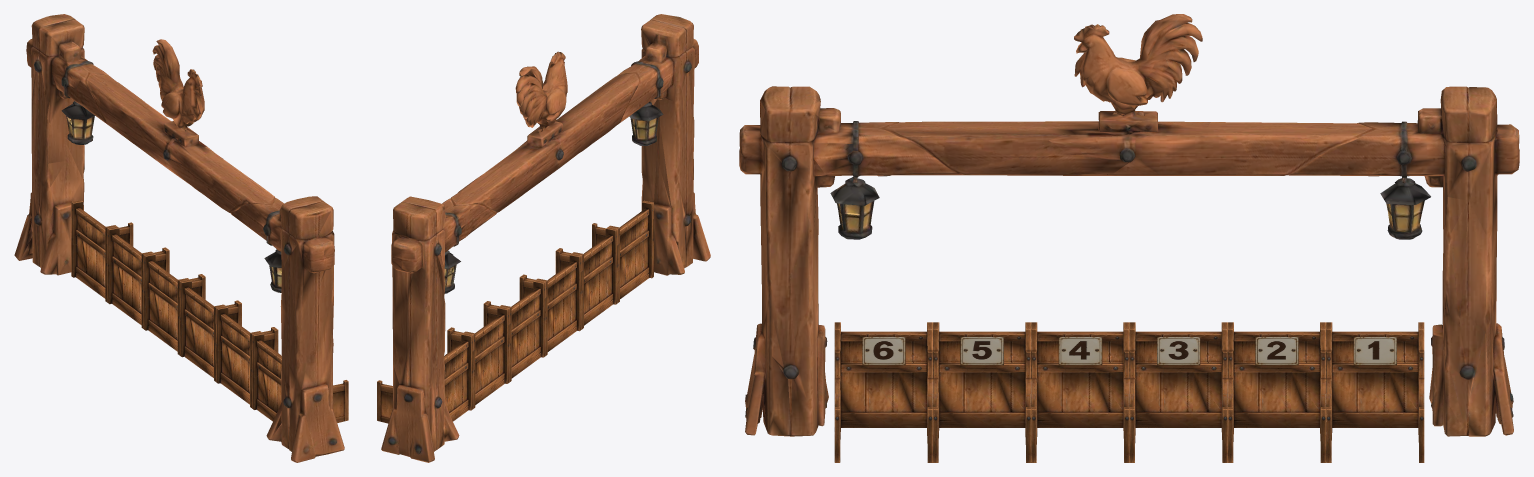
The model's file is start-gate-CyUInV9h.glb.
3 views of the same model, side by side, from view 1: azimuth 30°, elevation 25°; view 2: azimuth 150°, elevation 25°; view 3: azimuth 270°, elevation 25° (orthographic). The views are drawn at different scales.
Visible parts, largest first — view 1: Gate_Arch, 출발모듈_1, 출발모듈_2, 출발모듈_3, 출발모듈_5, 출발모듈_4, 출발모듈_6; view 2: Gate_Arch, 출발모듈_5, 출발모듈_3, 출발모듈_4, 출발모듈_2, 출발모듈_6, 출발모듈_1; view 3: Gate_Arch, 출발모듈_6, 출발모듈_1, 출발모듈_4, 출발모듈_5, 출발모듈_3, 출발모듈_2, 레인번호_좌6_우1.
Part boxes in pixels (<box>): Gate_Arch: <box>14,14,344,462</box>; 출발모듈_1: <box>71,200,167,302</box>; 출발모듈_2: <box>107,226,203,328</box>; 출발모듈_3: <box>143,253,239,355</box>; 출발모듈_5: <box>216,306,278,408</box>; 출발모듈_4: <box>180,279,275,381</box>; 출발모듈_6: <box>252,332,348,422</box>; Gate_Arch: <box>381,14,710,462</box>; 출발모듈_5: <box>522,227,617,329</box>; 출발모듈_3: <box>449,280,545,382</box>; 출발모듈_4: <box>486,253,581,355</box>; 출발모듈_2: <box>447,306,509,408</box>; 출발모듈_6: <box>558,200,653,302</box>; 출발모듈_1: <box>377,333,473,423</box>; Gate_Arch: <box>739,14,1519,436</box>; 출발모듈_6: <box>834,322,932,462</box>; 출발모듈_1: <box>1326,322,1424,462</box>; 출발모듈_4: <box>1031,322,1129,462</box>; 출발모듈_5: <box>933,322,1031,462</box>; 출발모듈_3: <box>1129,322,1227,462</box>; 출발모듈_2: <box>1228,322,1325,462</box>; 레인번호_좌6_우1: <box>862,337,1396,365</box>.
Size of the model in its own units: 3.02 by 10.11 by 17.47.
3 materials, 3 textured.
